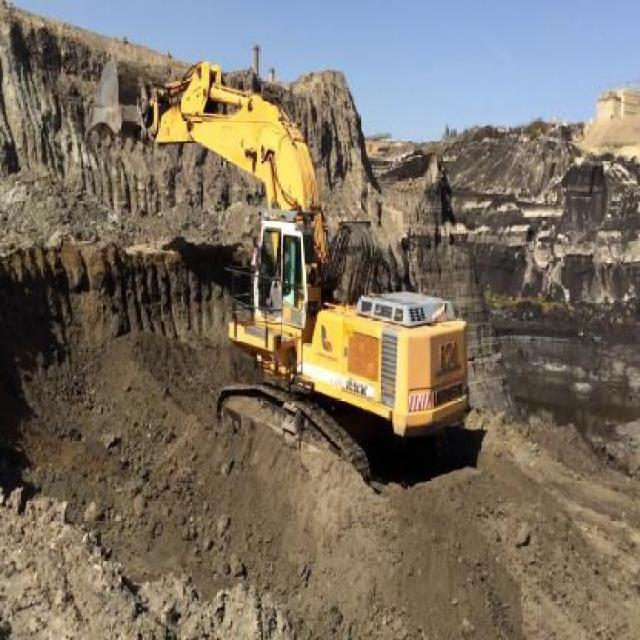Excavator: (82, 57, 469, 488)
